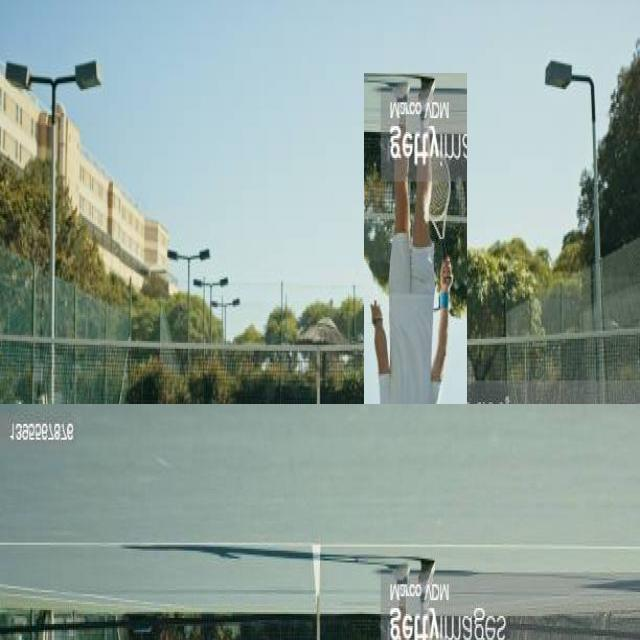court: (0, 404, 640, 640)
net: (0, 325, 640, 463)
player: (364, 73, 467, 489)
